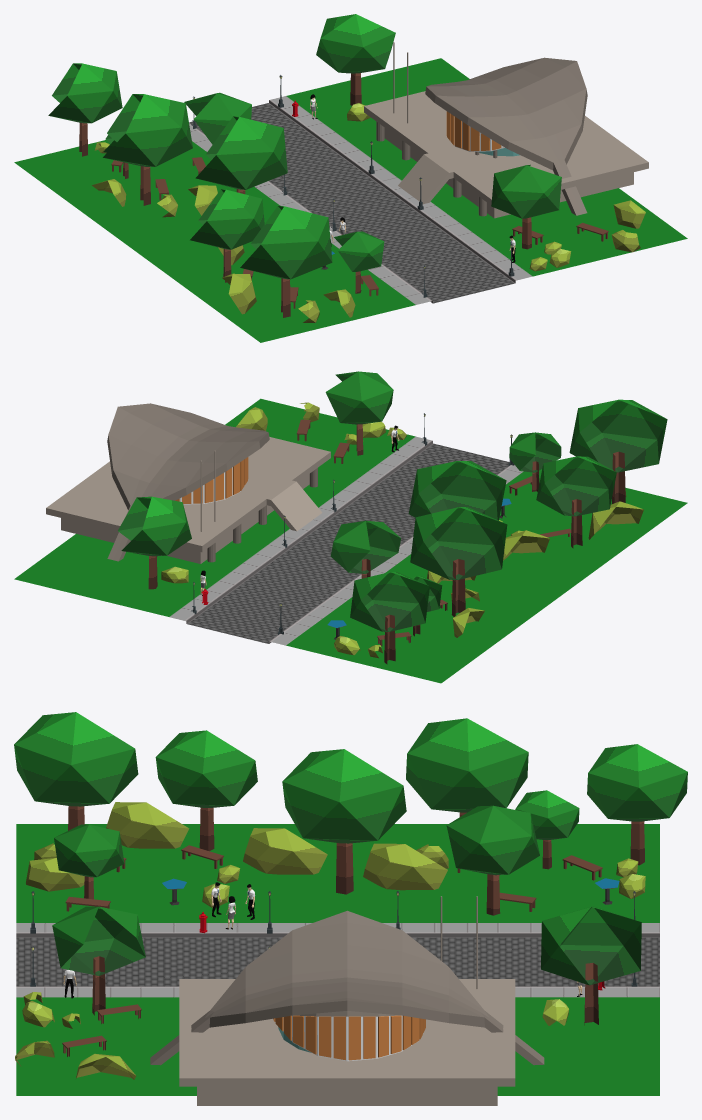
File: haus_der_kulturen_der_welt.glb
3 renders of one model, top to bottom at view 1: azimuth 30°, elevation 25°; view 2: azimuth 150°, elevation 25°; view 3: azimuth 270°, elevation 25°, orthographic. The views are drawn at different scales.
Parts seen in each view (by area): view 1: Road7, Cylinder.004, Tree.059, Tree.049, Tree.047, Tree.046, Tree.060, Tree.051, Tree.052, Tree.057, Tree.048, Shrubs.070 (+2 smaller); view 2: Road7, Cylinder.004, Tree.059, Tree.049, Tree.047, Tree.060, Tree.052, Tree.046, Tree.051, Tree.057, Tree.048, Shrubs.070 (+4 smaller); view 3: Road7, Cylinder.004, Tree.047, Tree.049, Tree.059, Tree.046, Tree.060, Tree.052, Tree.057, Tree.051, Tree.048, Shrubs.083 (+6 smaller).
Boxes of the visible parts, x1,y1,x2,y2 form: Road7: (14, 58, 687, 342); Cylinder.004: (364, 42, 648, 218); Tree.059: (103, 94, 192, 205); Tree.049: (240, 206, 332, 317); Tree.047: (195, 116, 287, 194); Tree.046: (316, 14, 395, 105); Tree.060: (48, 63, 122, 156); Tree.051: (491, 164, 561, 249); Tree.052: (190, 189, 264, 282); Tree.057: (184, 92, 251, 144); Tree.048: (334, 231, 384, 293); Shrubs.070: (222, 273, 256, 314); Road7: (14, 398, 687, 683); Cylinder.004: (46, 403, 330, 563); Tree.059: (410, 507, 507, 616); Tree.049: (569, 399, 667, 503); Tree.047: (408, 461, 506, 520); Tree.060: (350, 571, 429, 664); Tree.052: (536, 456, 616, 548); Tree.046: (118, 496, 191, 589); Tree.051: (325, 371, 393, 455); Tree.057: (330, 520, 400, 578); Tree.048: (509, 432, 561, 491); Shrubs.070: (588, 501, 643, 539); Road7: (16, 824, 659, 1095); Cylinder.004: (150, 896, 544, 1105); Tree.047: (282, 749, 406, 894); Tree.049: (14, 712, 138, 830); Tree.059: (406, 718, 528, 816); Tree.046: (541, 906, 641, 1025); Tree.060: (587, 744, 687, 865); Tree.052: (155, 730, 257, 851); Tree.057: (446, 805, 539, 915); Tree.051: (52, 906, 145, 1015); Tree.048: (54, 824, 124, 899); Shrubs.083: (243, 828, 327, 874).
Size of the model in its own units: 42.19 by 10.05 by 41.89.
Materials: 4 (4 with a texture image).
